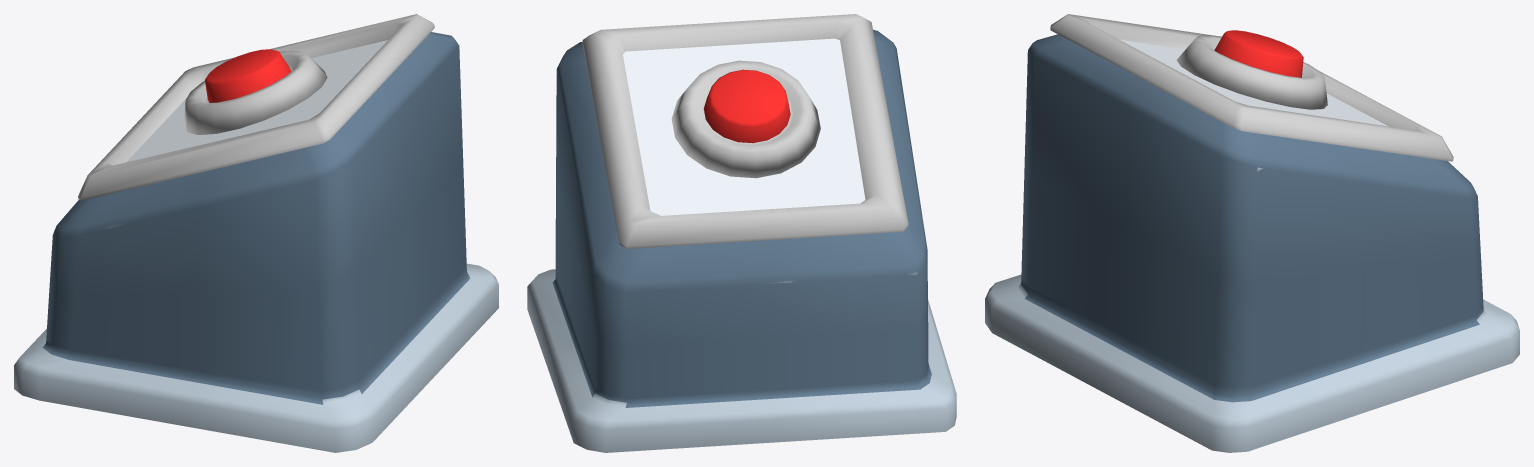
Rendered from gameLand-battleMachine.glb.
3 renders of one model, left to right at view 1: azimuth 30°, elevation 25°; view 2: azimuth 150°, elevation 25°; view 3: azimuth 270°, elevation 25°, orthographic. The views are drawn at different scales.
Visible parts, largest first — view 1: game_battle_machine_body, game_battle_machine_metal, game_battle_machine_button; view 2: game_battle_machine_body, game_battle_machine_metal, game_battle_machine_button; view 3: game_battle_machine_body, game_battle_machine_metal, game_battle_machine_button.
Boxes of the visible parts, x1,y1,x2,y2 form: game_battle_machine_body: (14, 32, 498, 452); game_battle_machine_metal: (78, 14, 434, 200); game_battle_machine_button: (205, 49, 290, 102); game_battle_machine_body: (527, 29, 956, 452); game_battle_machine_metal: (582, 14, 908, 248); game_battle_machine_button: (703, 69, 790, 143); game_battle_machine_body: (985, 34, 1519, 452); game_battle_machine_metal: (1050, 14, 1453, 161); game_battle_machine_button: (1214, 30, 1303, 77).
Bounding box in the file's own units: 58.29 × 36.97 × 57.78.
3 materials, 1 textured.
